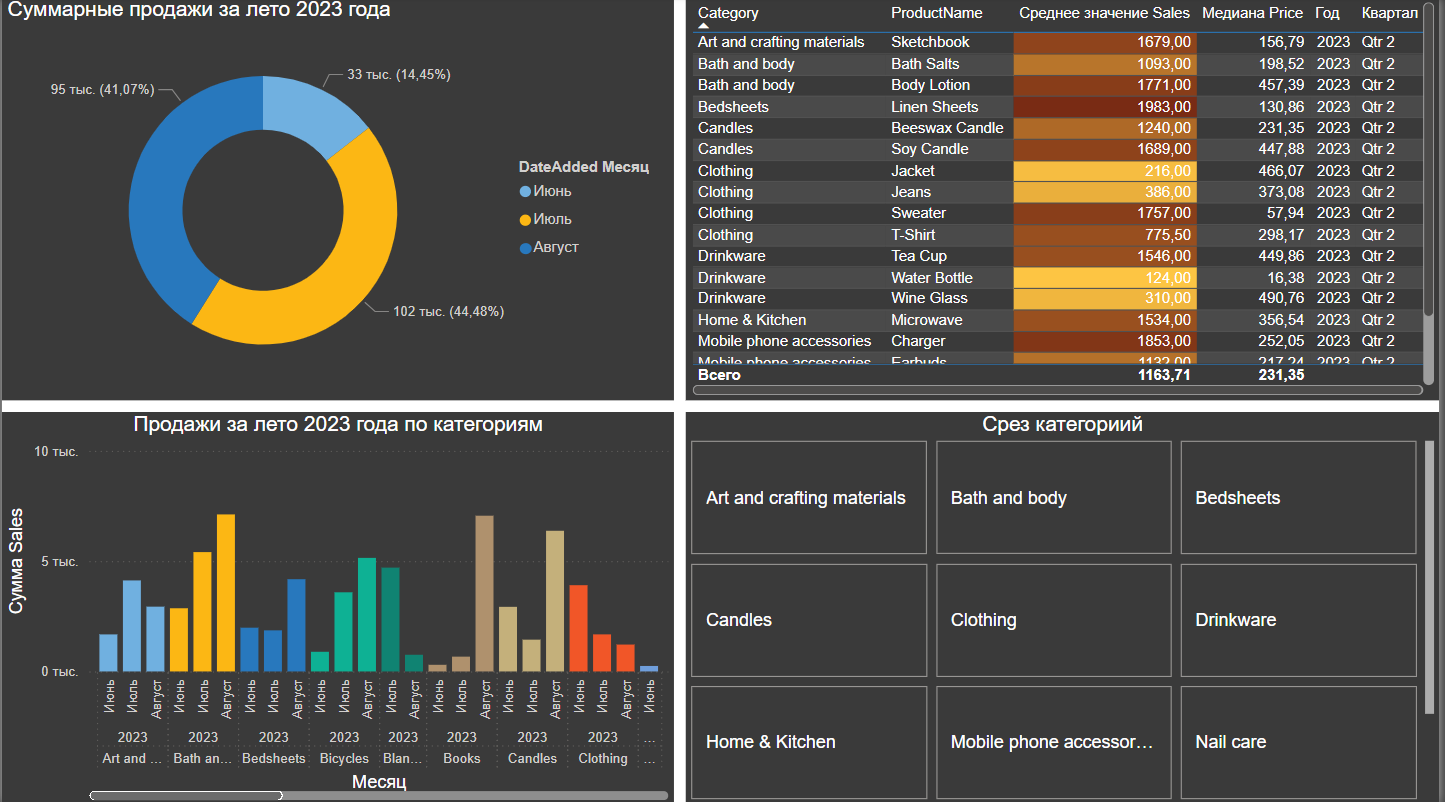

The page's visual inventory and layout, read from the dashboard file:
{"tool":"powerbi","page":{"name":"Страница 1","canvas":[1280,720],"ordinal":0},"visuals":[{"type":"donutChart","title":"Суммарные продажи за лето 2023 года","fields":{"Category":["Главная таблица.DateAdded.Изменение.Иерархия дат.Год","Главная таблица.DateAdded.Изменение.Иерархия дат.Месяц"],"Y":["Sum(Главная таблица.Sales)"]},"box":[0,0,598.3,359.5],"z":0},{"type":"tableEx","fields":{"Values":["Главная таблица.Category","Главная таблица.ProductName","Avg(Главная таблица.Sales)","Median(Главная таблица.Price)","Главная таблица.DateAdded.Изменение.Иерархия дат.Год","Главная таблица.DateAdded.Изменение.Иерархия дат.Квартал"]},"box":[608.6,0,671.2,359.5],"z":1000},{"type":"columnChart","title":"Продажи за лето 2023 года по категориям","fields":{"Category":["Главная таблица.Category","Главная таблица.DateAdded.Изменение.Иерархия дат.Год","Главная таблица.DateAdded.Изменение.Иерархия дат.Месяц"],"Y":["Sum(Главная таблица.Sales)"],"Series":["Главная таблица.Category"]},"box":[0,369.3,598.8,350.9],"z":2000},{"type":"advancedSlicerVisual","title":"Срез категориий","fields":{"Values":["Главная таблица.Category"]},"box":[608.6,369.3,671.2,350.9],"z":3000}]}

Visuals, with their boxes in screenshot pixels (x1, y1, x2, y2), scaled from the page's 1280x720 canvas onto the 1445x802 screenshot:
"Суммарные продажи за лето 2023 года" donutChart: 0 0 675 400
tableEx - Главная таблица.Category x Главная таблица.ProductName: 687 0 1444 400
"Продажи за лето 2023 года по категориям" columnChart: 0 411 676 801
"Срез категориий" advancedSlicerVisual: 687 411 1444 801
